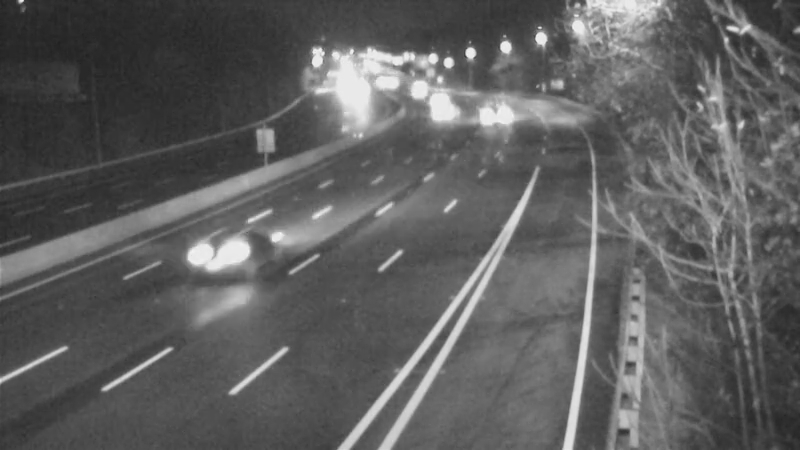vehicle: (167, 218, 247, 298), (397, 68, 447, 118), (418, 73, 468, 123), (421, 87, 471, 137), (469, 88, 519, 138)
